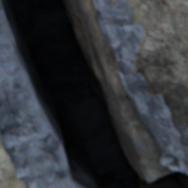brick: (80, 0, 174, 180), (127, 0, 187, 145), (0, 137, 25, 187), (111, 0, 115, 5)
crack: (1, 0, 187, 187)
